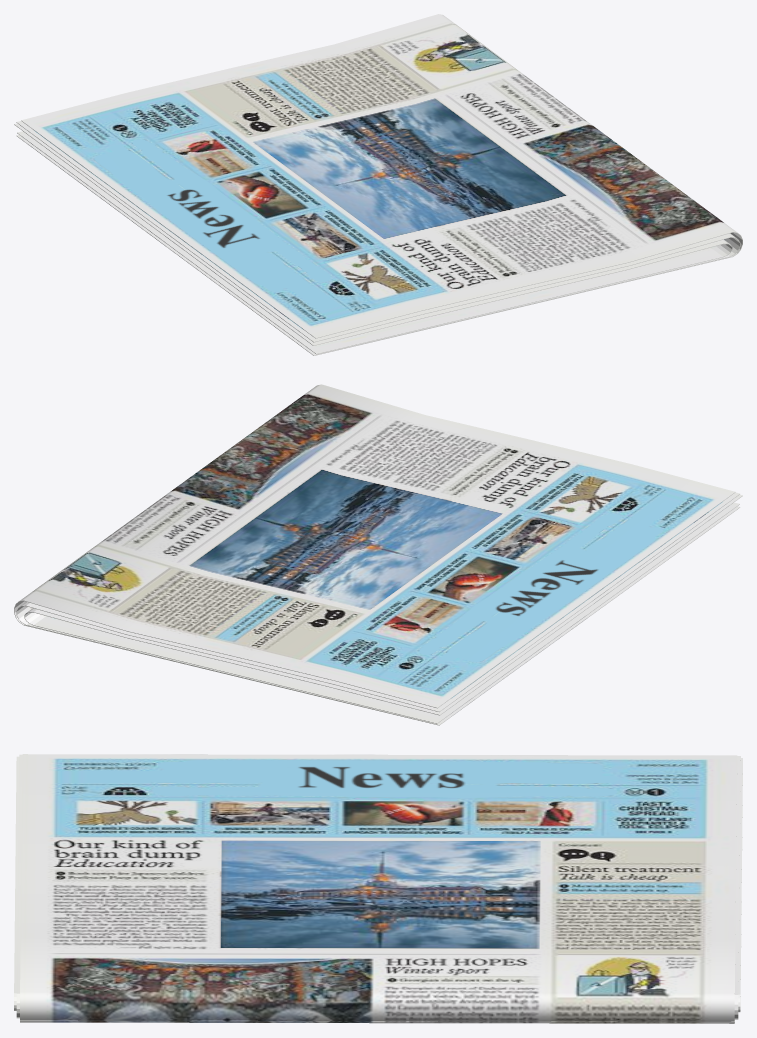
File: Newspaper.fbx
3 renders of one model, top to bottom at view 1: azimuth 30°, elevation 25°; view 2: azimuth 150°, elevation 25°; view 3: azimuth 270°, elevation 25°, orthographic. The views are drawn at different scales.
Parts seen in each view (by area): view 1: Newspaper; view 2: Newspaper; view 3: Newspaper.
Part boxes in pixels (box(x1,y1,x2,y2)): Newspaper: box(14, 14, 742, 355); Newspaper: box(14, 384, 742, 725); Newspaper: box(14, 754, 742, 1023).
Bounding box in the file's own units: 25.93 × 1.43 × 31.4.
1 material, 1 textured.
